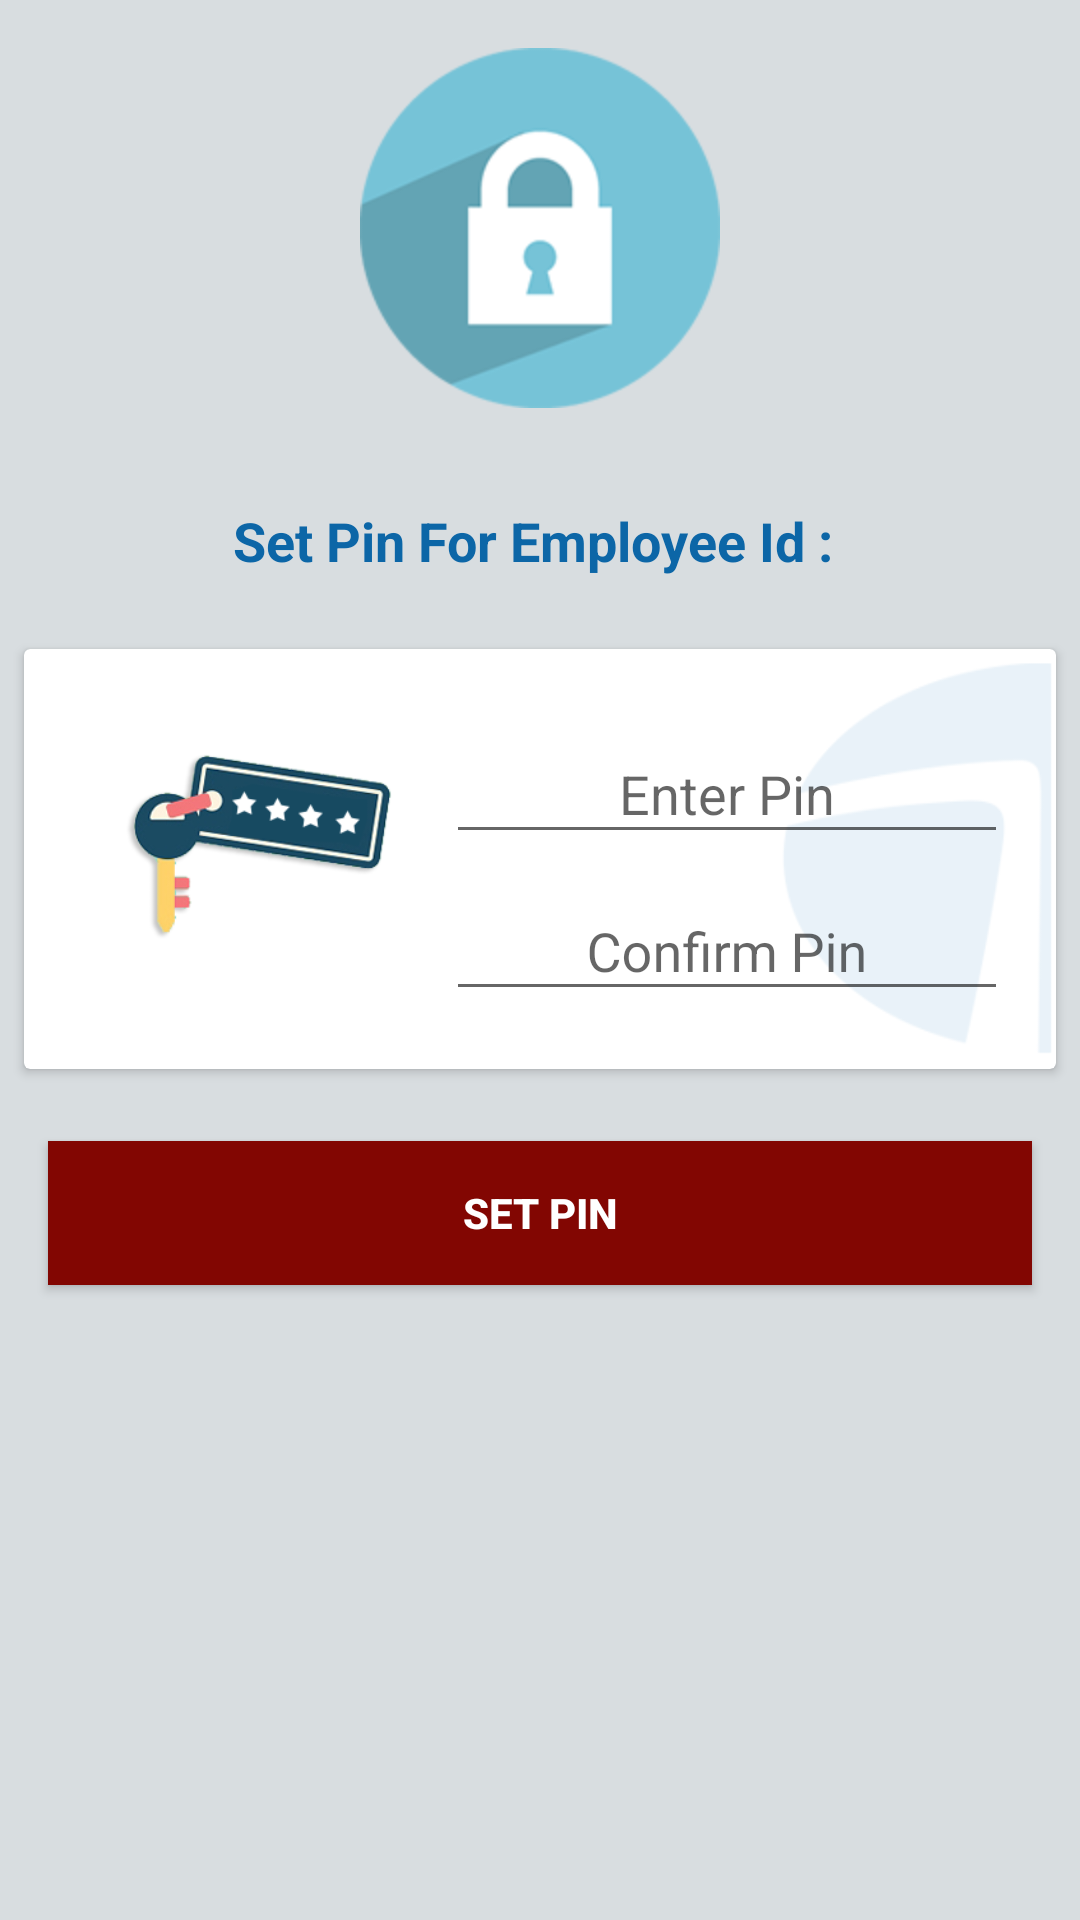

Icons on this 1080x1920 Android screen, each with its box as (x1, y1, x2, y2):
key: (130, 755, 391, 935)
lock: (360, 48, 720, 408)
